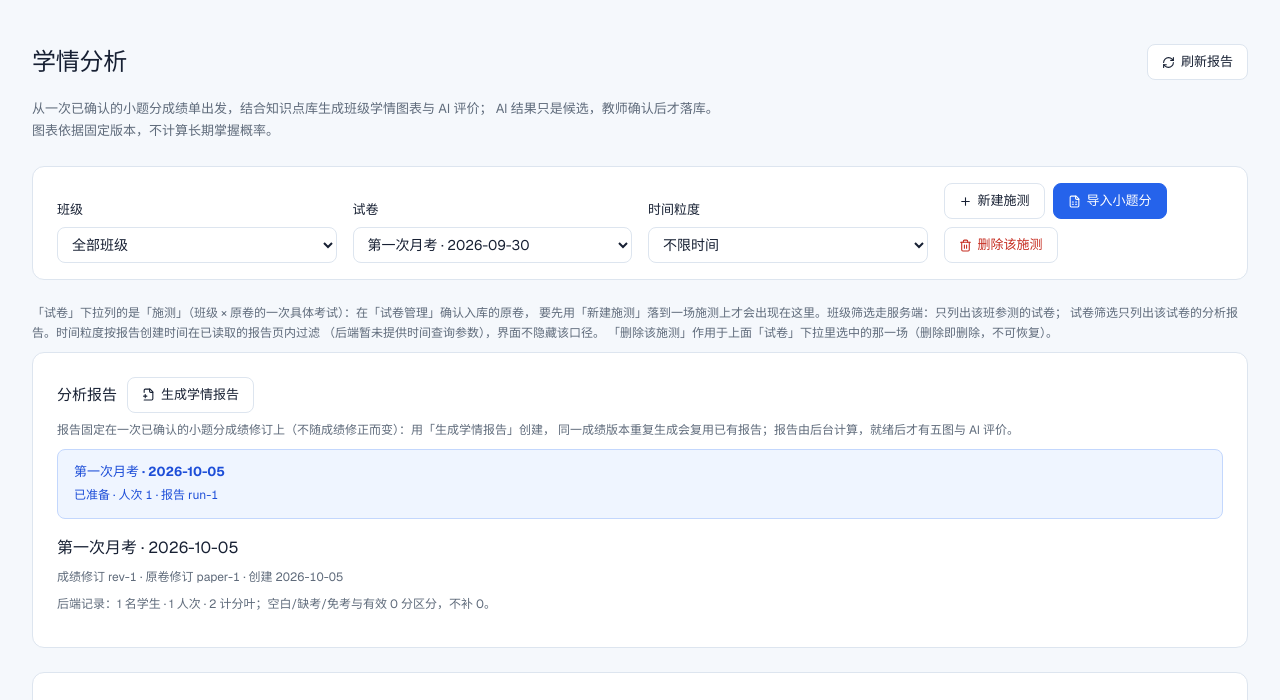
Test: 学情分析：删除施测（R10-BE 施测=成绩链所有者） › 409 ASSESSMENT_IN_USE：逐项列出教案冻结血缘，不显示成功回执
Step 1. Click the button with test id "la-assessment-delete" → (1000, 245), box 944,227 -> 1058,263
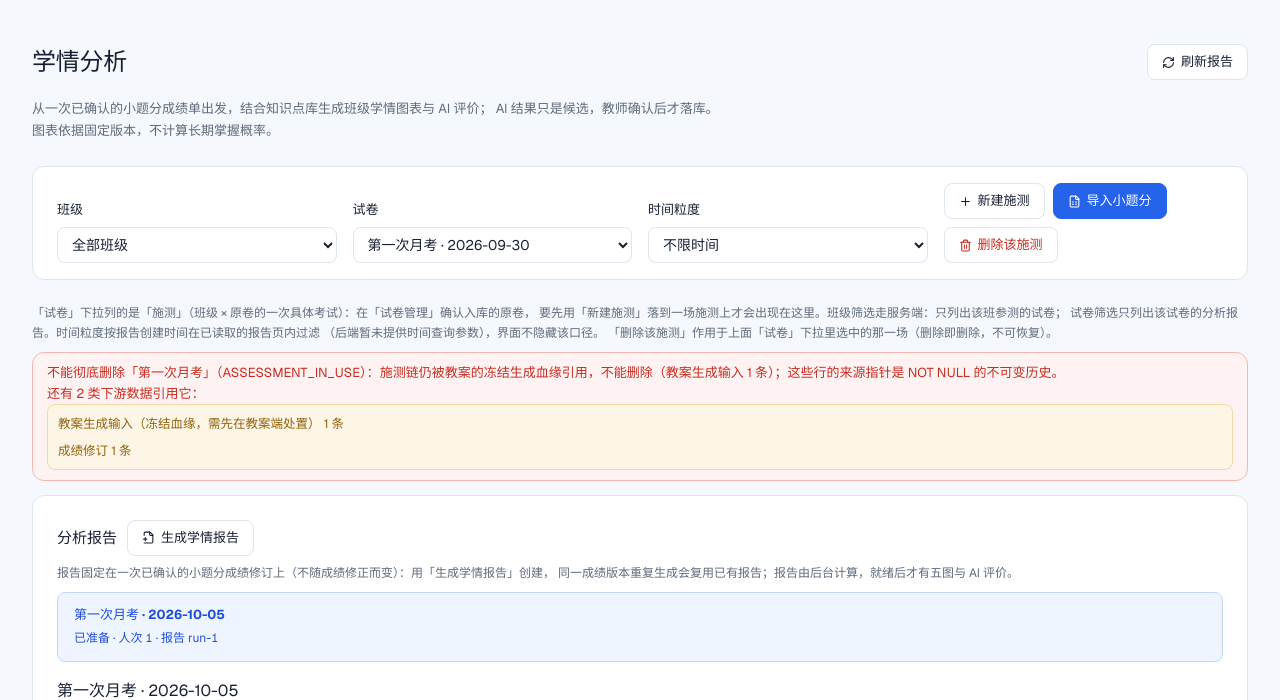
Check: the message with test id "la-assessment-delete-guard" shows "ASSESSMENT_IN_USE", box 222,364 -> 360,381
Check: the message with test id "la-assessment-delete-guard" shows "教案生成输入（冻结血缘，需先在教案端处置） 1 条", box 32,352 -> 1248,481
Check: the message with test id "la-assessment-delete-guard" shows "成绩修订 1 条", box 32,352 -> 1248,481
